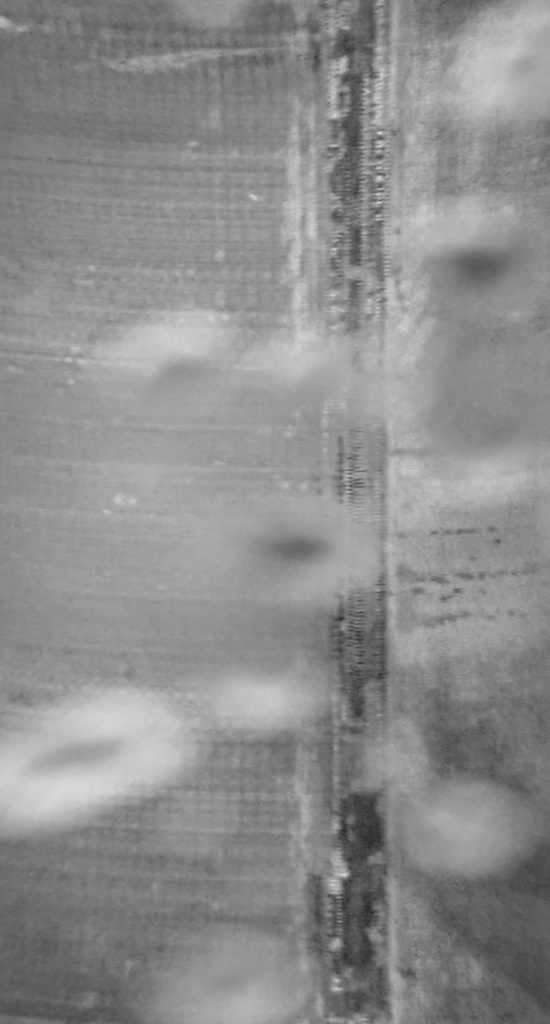splice: (308, 1, 395, 1023)
